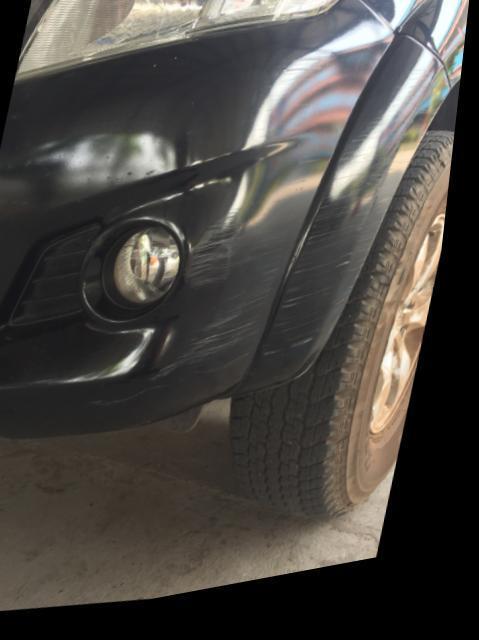rub: (109, 162, 332, 410), (273, 82, 441, 370)
